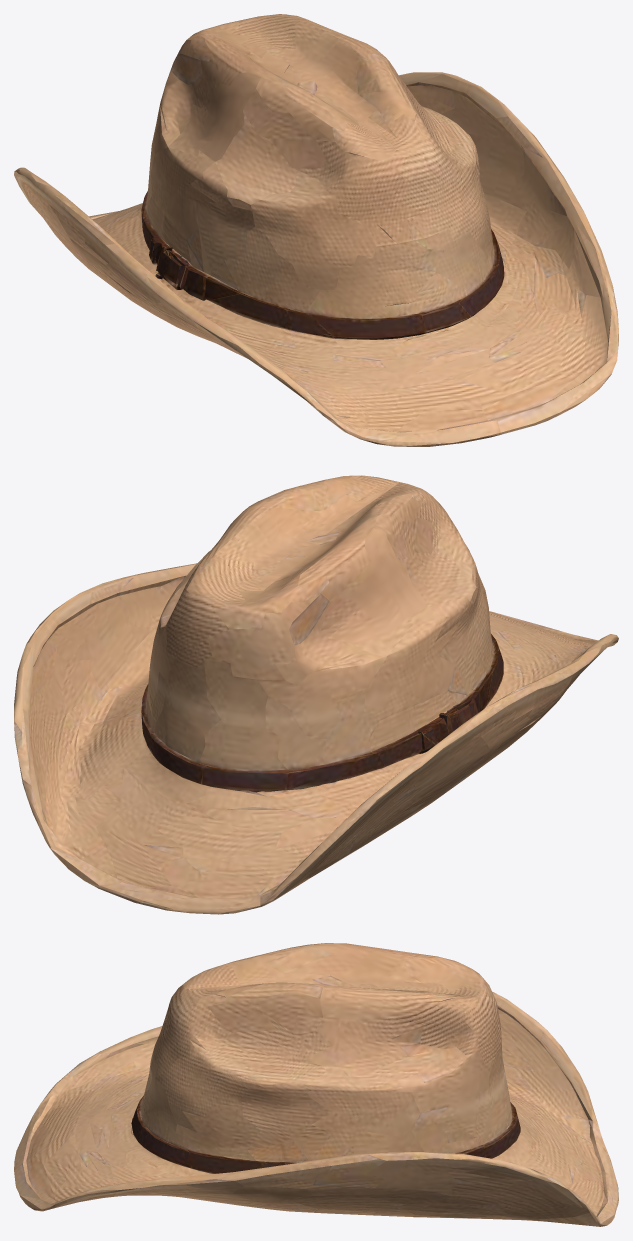
The model's file is acc_cowboy.glb.
The picture shows the model from 3 angles, top to bottom: view 1: azimuth 30°, elevation 25°; view 2: azimuth 150°, elevation 25°; view 3: azimuth 270°, elevation 25°; orthographic projection. The views are drawn at different scales.
Size of the model in its own units: 1.36 by 0.8083 by 1.9.
1 material, 1 textured.
